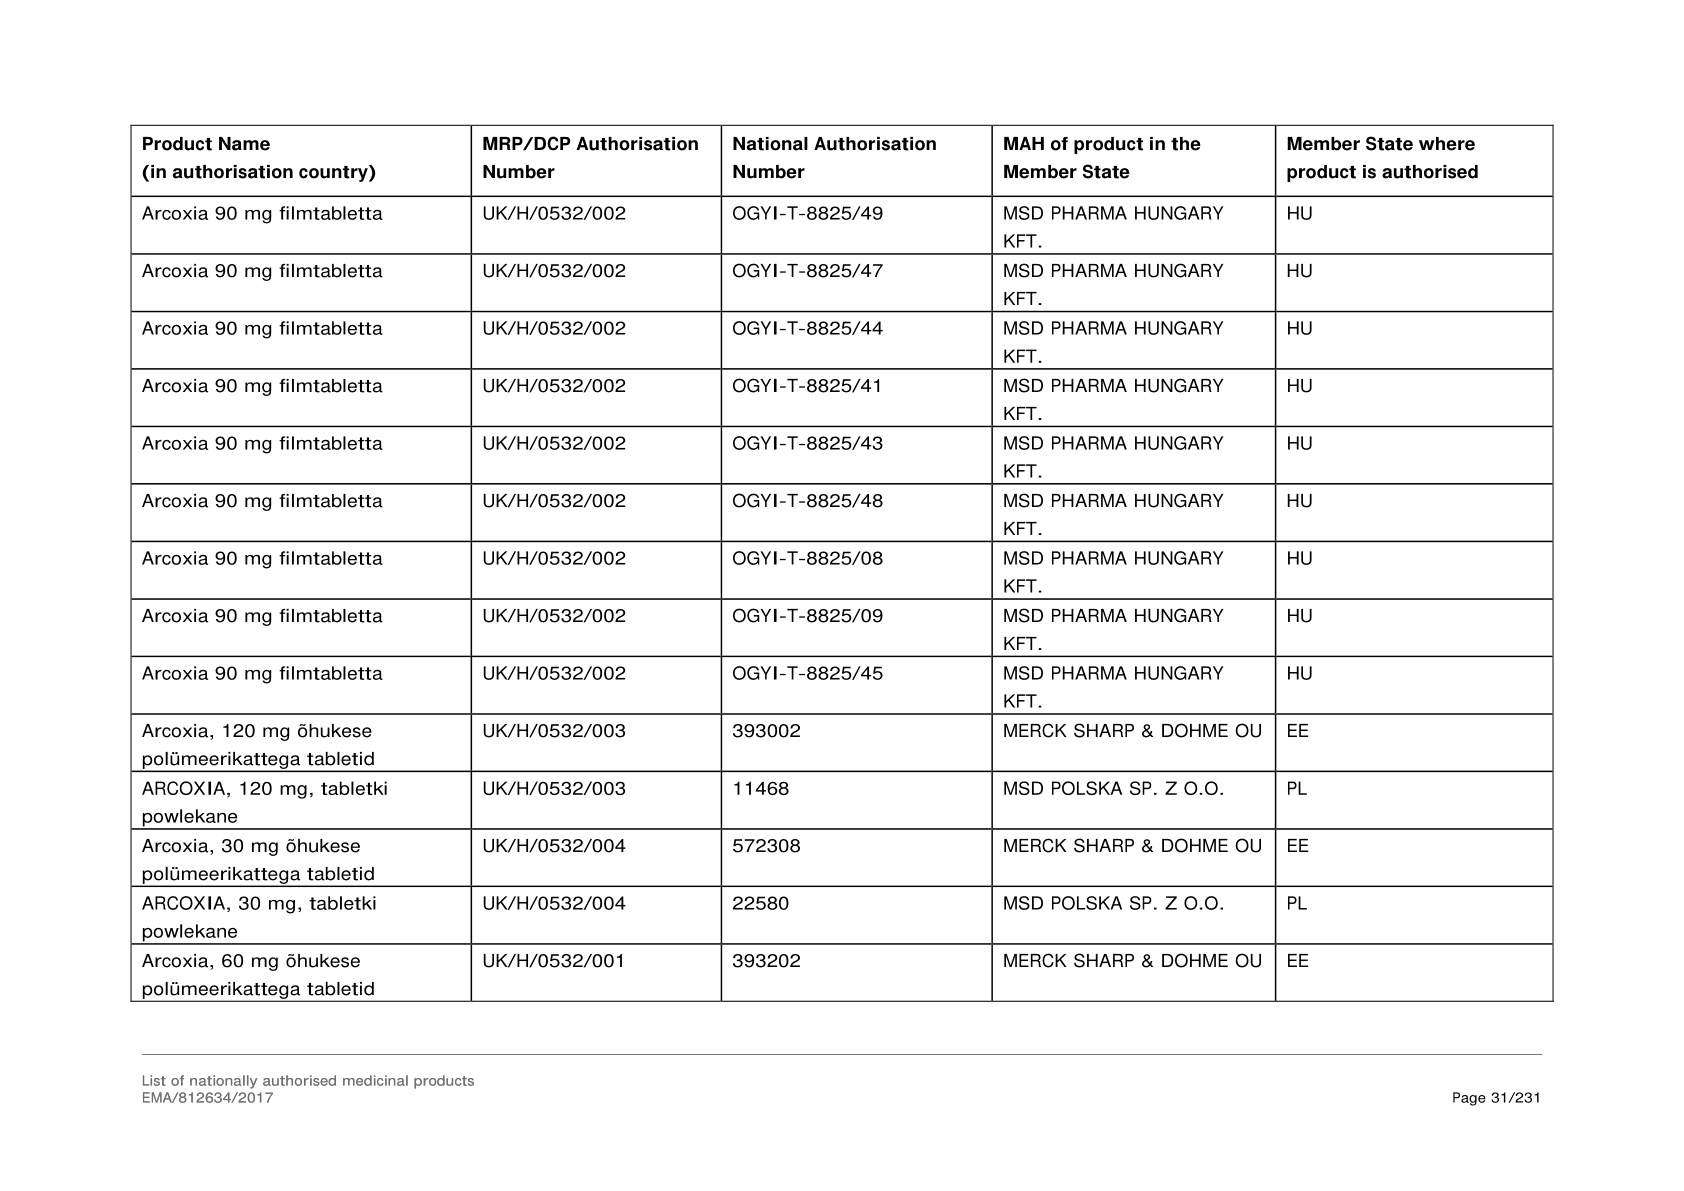full_lined: (130, 124, 1555, 1002)
